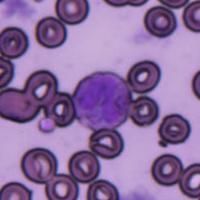E: (71, 70, 130, 130)
